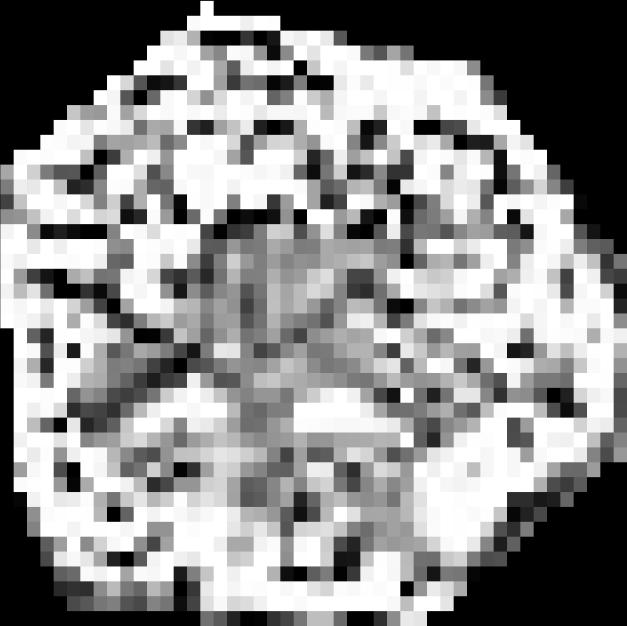tumor_good_chance: (0, 1, 627, 626)
